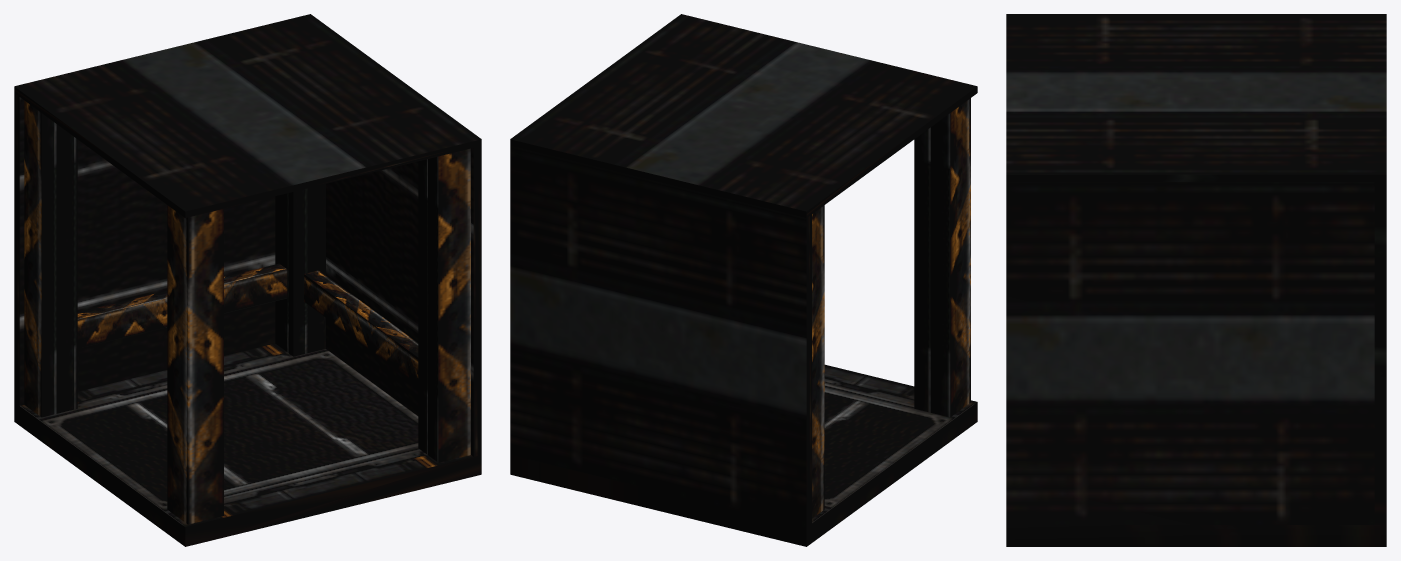
The model's file is lift1.obj.
3 views of the same model, side by side, from view 1: azimuth 30°, elevation 25°; view 2: azimuth 150°, elevation 25°; view 3: azimuth 270°, elevation 25° (orthographic). The views are drawn at different scales.
Parts seen in each view (by area): view 1: Group; view 2: Group; view 3: Group.
Boxes of the visible parts, x1=… form: Group: x1=14, y1=14, x2=481, y2=546; Group: x1=510, y1=14, x2=977, y2=546; Group: x1=1006, y1=14, x2=1386, y2=546.
Bounding box in the file's own units: 39.69 × 42.9 × 39.69.
